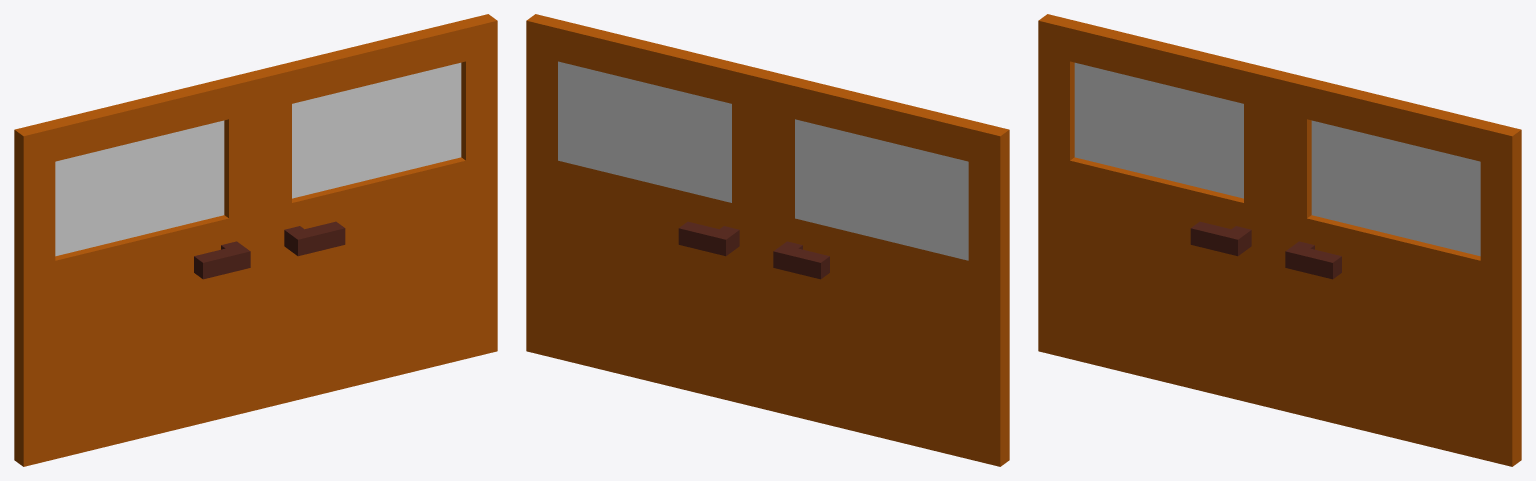
File: 2_EntryDoors.fbx
The picture shows the model from 3 angles, left to right: view 1: azimuth 30°, elevation 25°; view 2: azimuth 150°, elevation 25°; view 3: azimuth 330°, elevation 25°; orthographic projection.
Parts seen in each view (by area): view 1: 2_DoorFotocopy.001, 2_DoorHead1.001; view 2: 2_DoorFotocopy.001, 2_DoorHead1.001; view 3: 2_DoorHead1.001, 2_DoorFotocopy.001.
Part boxes in pixels (x1=…): 2_DoorFotocopy.001: x1=14, y1=72, x2=260, y2=466; 2_DoorHead1.001: x1=251, y1=14, x2=497, y2=408; 2_DoorFotocopy.001: x1=763, y1=72, x2=1009, y2=466; 2_DoorHead1.001: x1=526, y1=14, x2=772, y2=408; 2_DoorHead1.001: x1=1275, y1=72, x2=1521, y2=466; 2_DoorFotocopy.001: x1=1038, y1=14, x2=1284, y2=408.
Size of the model in its own units: 40 by 300 by 200.
